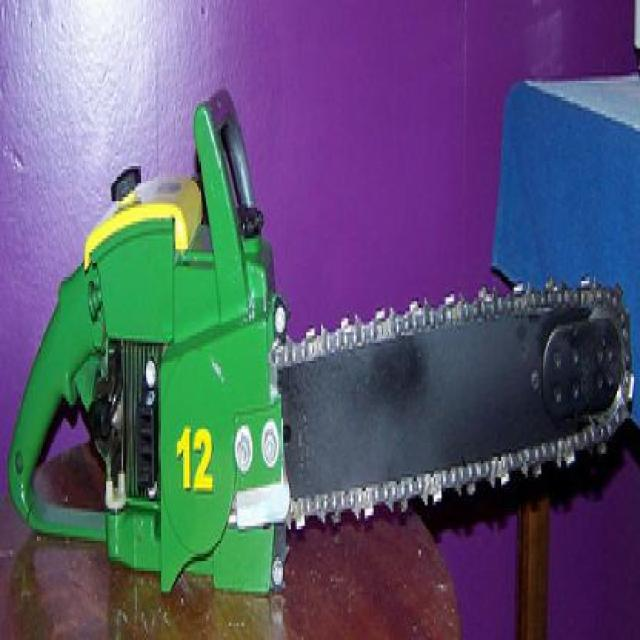Chainsaw: (8, 85, 635, 589)
